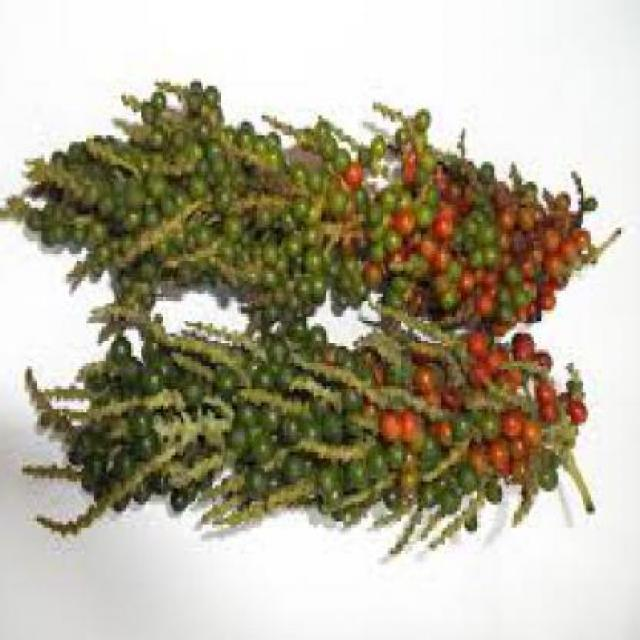RIPE: (390, 112, 596, 317), (408, 330, 591, 472)
UNRIPE: (2, 75, 376, 323), (77, 330, 391, 515), (398, 481, 504, 535)
